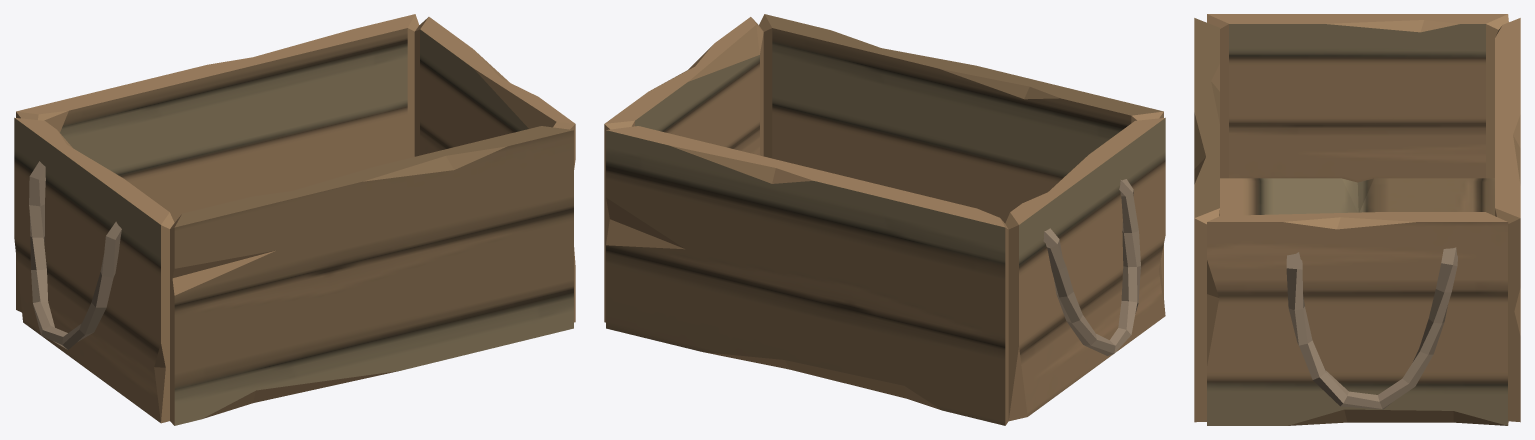
Rendered from SM_Prop_Crate_04.fbx.
The picture shows the model from 3 angles, left to right: view 1: azimuth 30°, elevation 25°; view 2: azimuth 150°, elevation 25°; view 3: azimuth 270°, elevation 25°; orthographic projection. The views are drawn at different scales.
Visible parts, largest first — view 1: SM_Prop_Crate_04; view 2: SM_Prop_Crate_04; view 3: SM_Prop_Crate_04.
Part boxes in pixels (x1=…): SM_Prop_Crate_04: x1=14, y1=14, x2=575, y2=425; SM_Prop_Crate_04: x1=604, y1=14, x2=1165, y2=425; SM_Prop_Crate_04: x1=1194, y1=14, x2=1520, y2=425.
Size of the model in its own units: 103 by 40.28 by 58.37.
